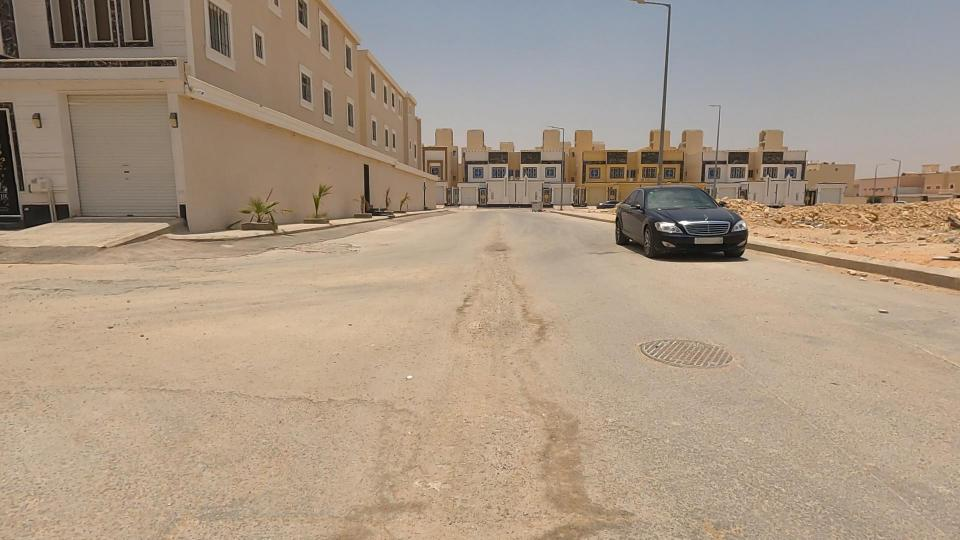POTHOLES: (434, 199, 560, 353)
